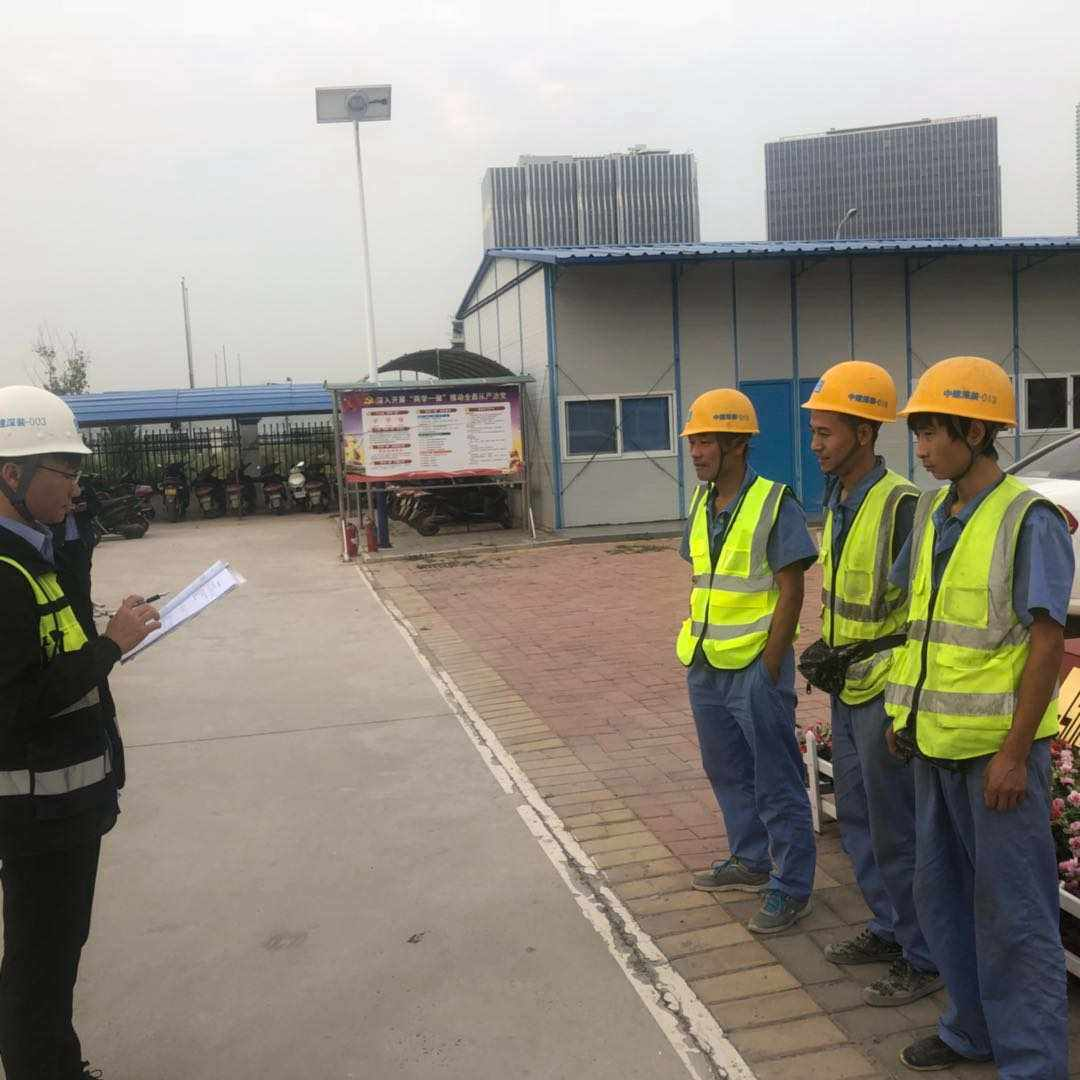person: (885, 350, 1080, 1080), (1, 378, 165, 1080), (796, 358, 948, 1013), (669, 380, 820, 939)
reflective_vest: (882, 482, 1073, 759), (1, 549, 123, 802), (813, 467, 924, 708), (670, 477, 803, 670)
safety_helmet: (895, 350, 1026, 486), (1, 382, 97, 531), (796, 357, 902, 480), (674, 383, 760, 486)
